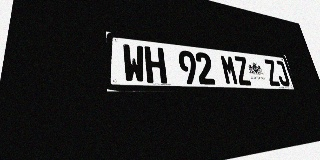2: (194, 52, 215, 85)
9: (177, 50, 199, 84)
H: (144, 46, 167, 83)
J: (273, 60, 291, 86)
M: (219, 54, 239, 85)
W: (122, 44, 146, 83)
Z: (233, 56, 252, 85), (263, 59, 281, 86)
